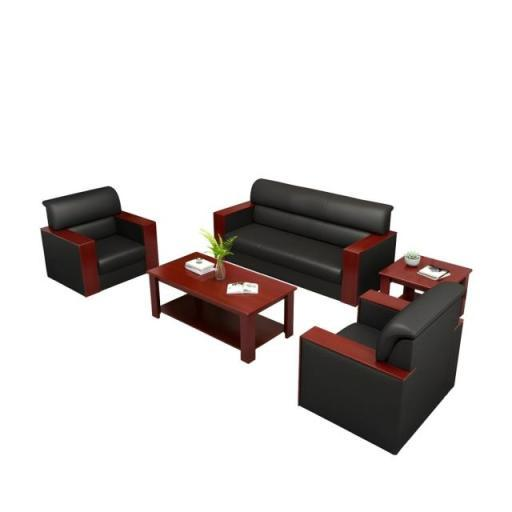sofa: (214, 154, 398, 306), (34, 160, 162, 308)
